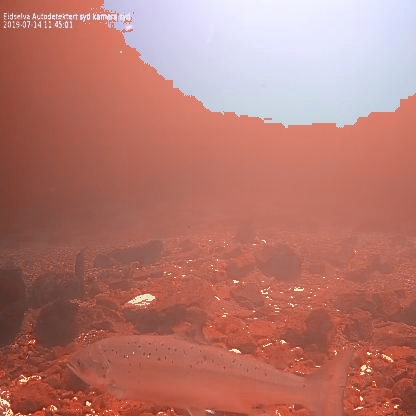salmon: (62, 320, 358, 416)
